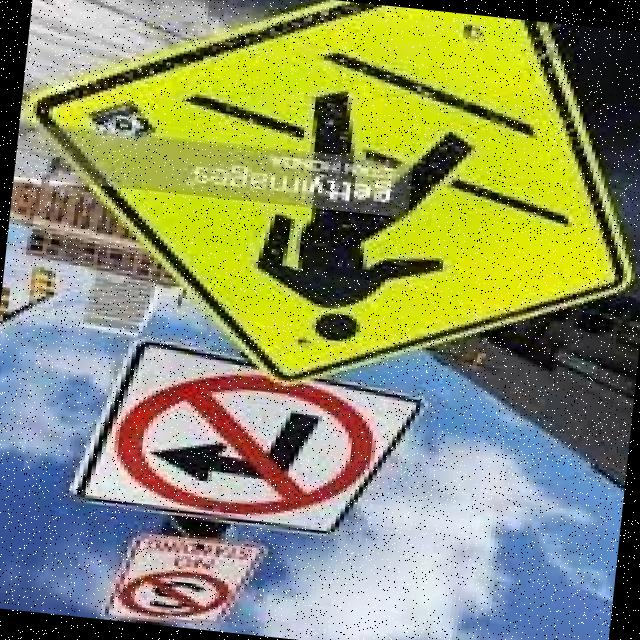do_not_turn_right: (105, 362, 376, 532)
